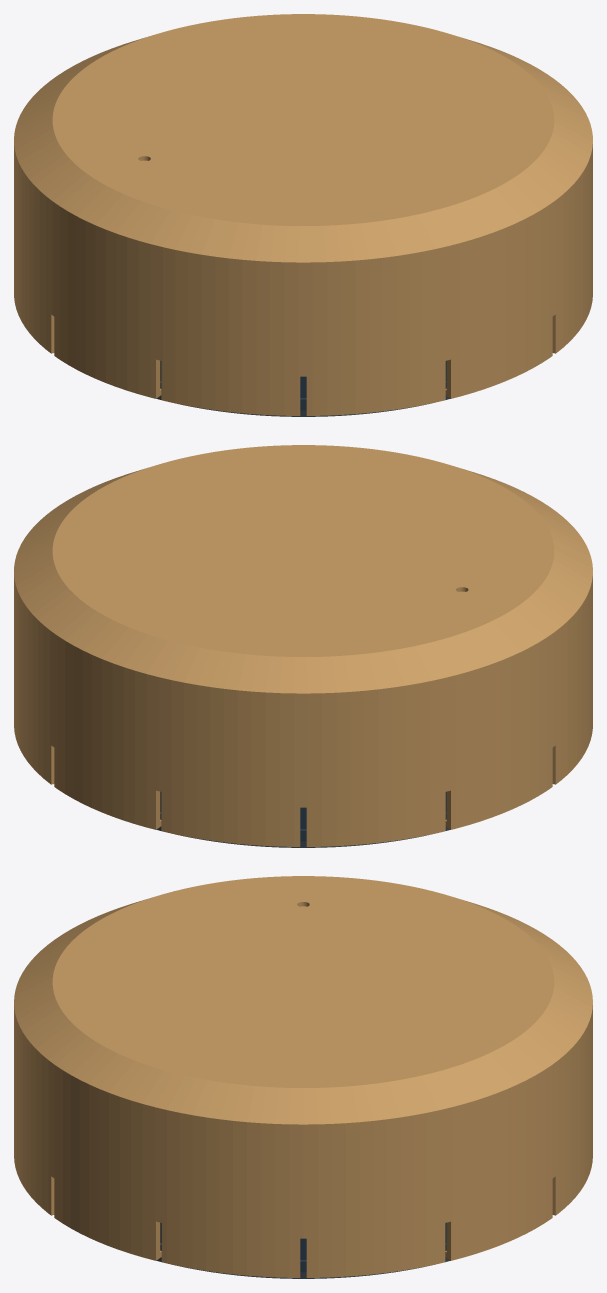
The model's file is turncount-assembled.glb.
The picture shows the model from 3 angles, top to bottom: view 1: azimuth 30°, elevation 25°; view 2: azimuth 150°, elevation 25°; view 3: azimuth 270°, elevation 25°; orthographic projection.
Parts seen in each view (by area): view 1: KNOB; view 2: KNOB; view 3: KNOB.
Part boxes in pixels (bbox=[...]): KNOB: bbox=[14, 14, 592, 415]; KNOB: bbox=[14, 445, 592, 846]; KNOB: bbox=[14, 876, 592, 1277].
Size of the model in its own units: 60 by 20.7 by 60.
